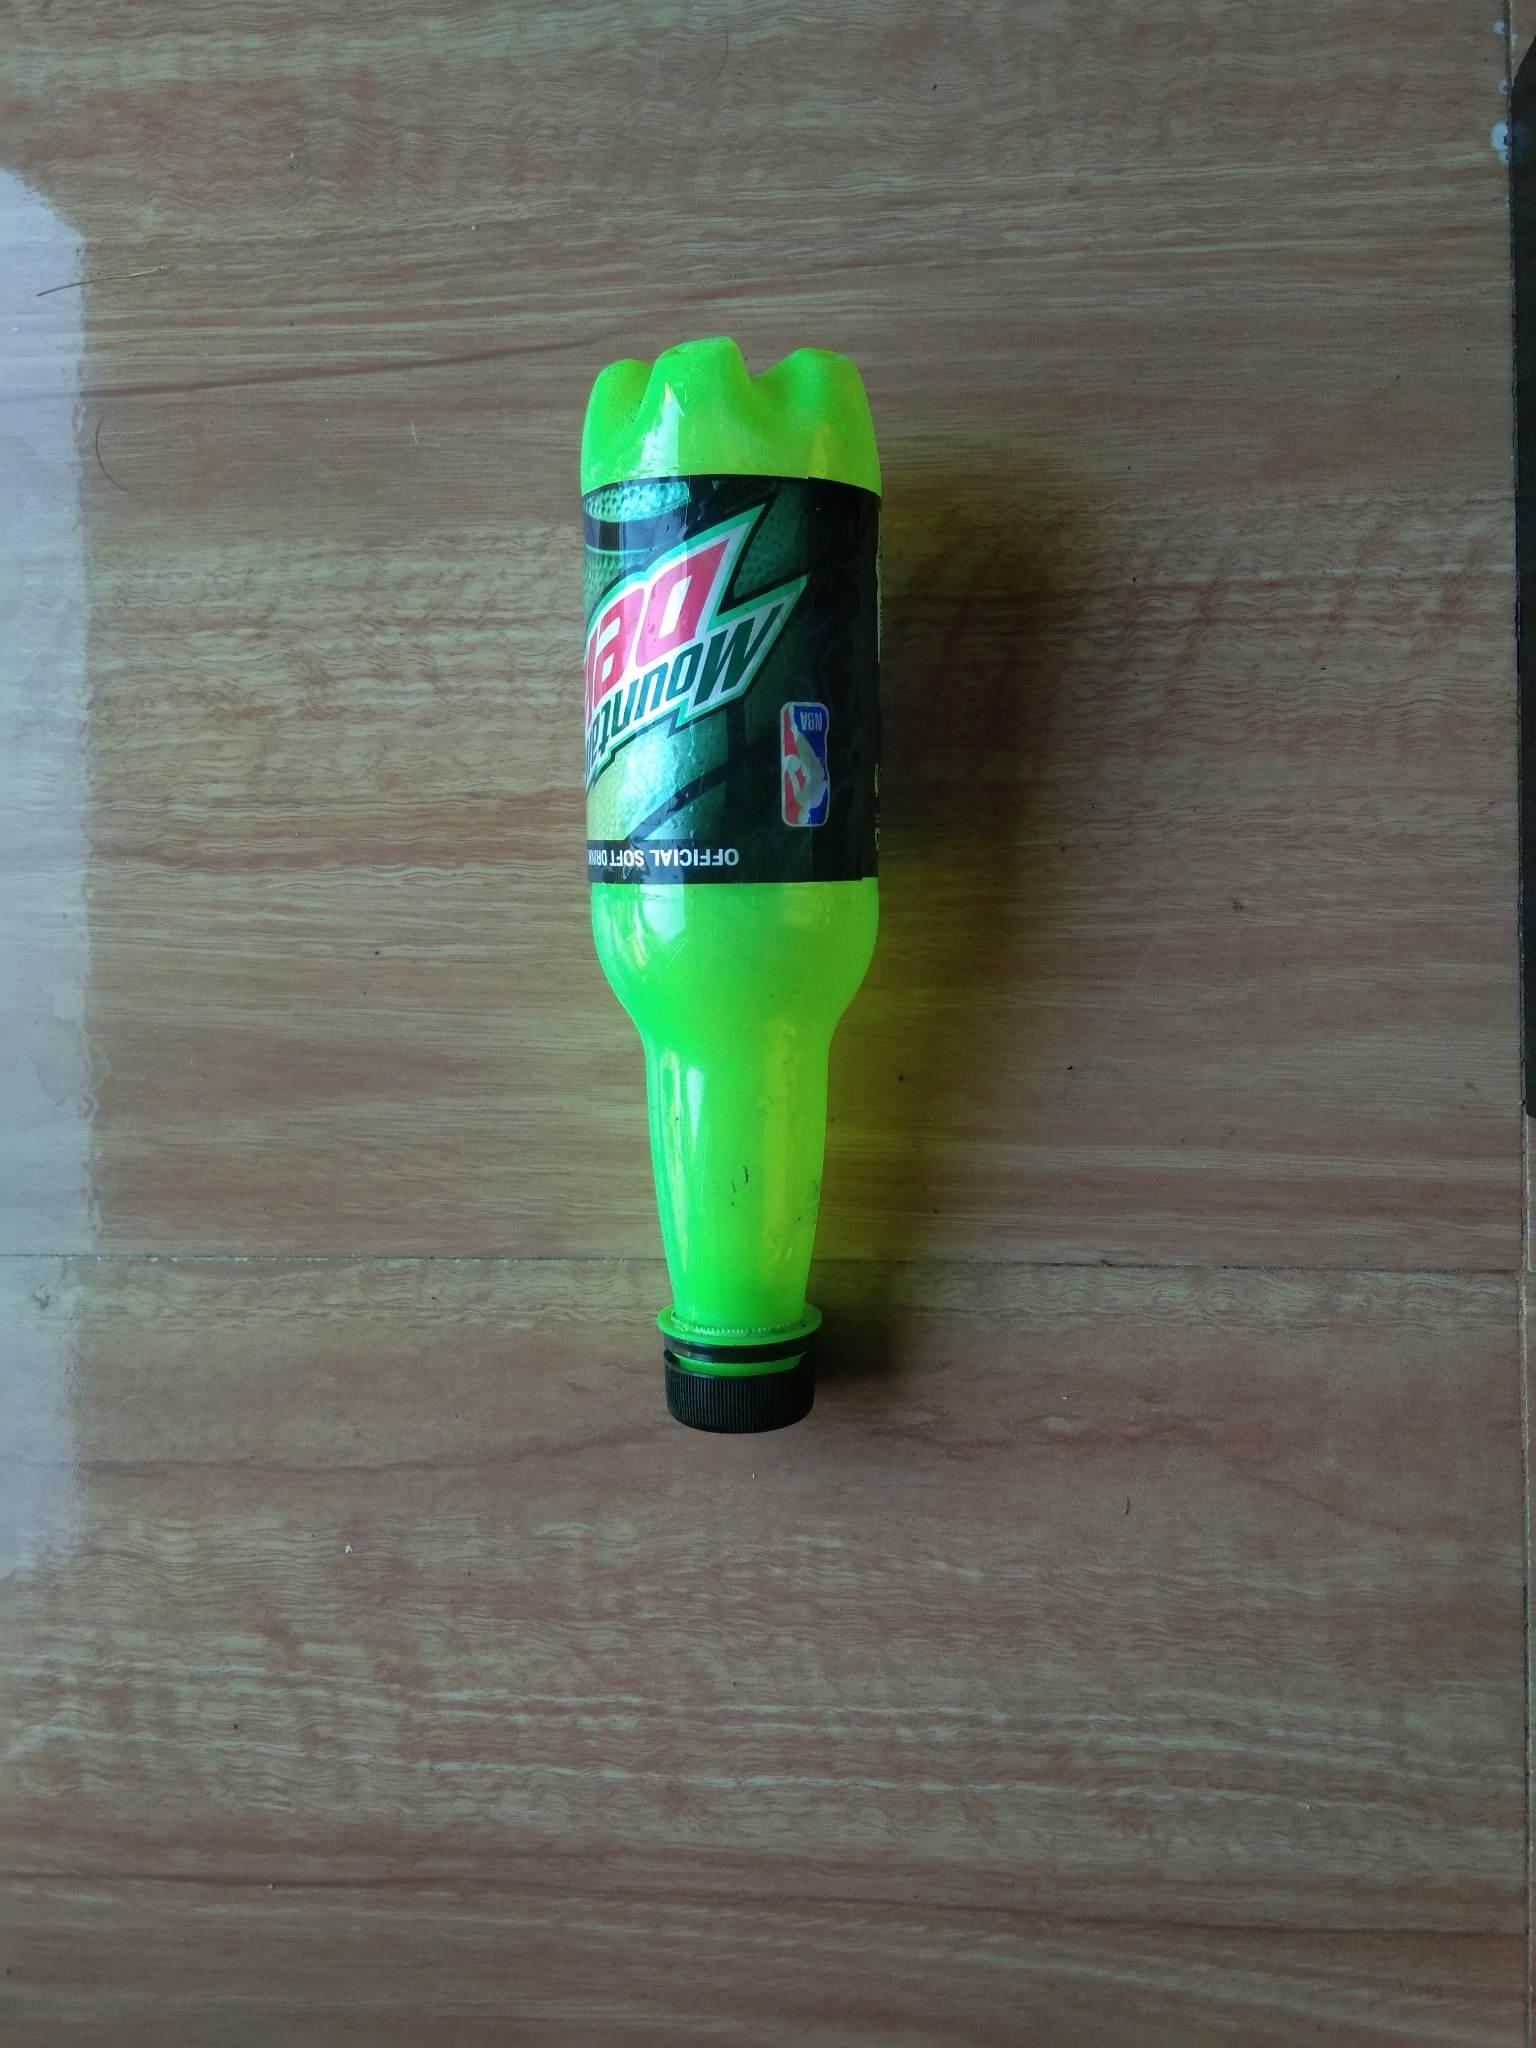plastic: (352, 314, 1047, 1472)
